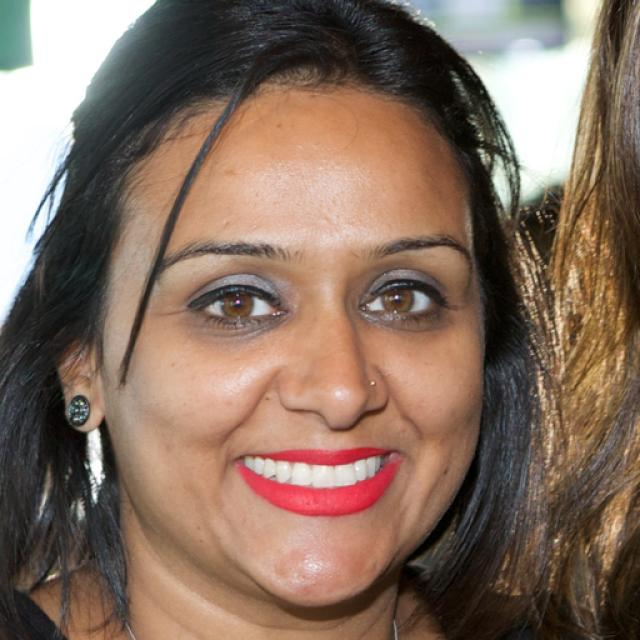Dark Circle: (187, 314, 293, 343), (361, 314, 439, 333)
